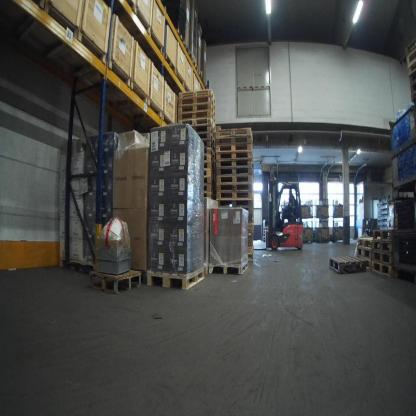forklift: (260, 170, 307, 256)
pallet: (91, 261, 145, 297), (148, 266, 205, 290), (330, 254, 365, 277), (58, 255, 92, 278), (208, 259, 249, 278), (175, 97, 216, 110), (179, 111, 215, 125), (179, 92, 217, 105), (181, 117, 216, 131), (177, 105, 215, 117), (217, 190, 253, 202), (216, 182, 254, 193), (215, 128, 252, 139), (215, 167, 254, 177), (371, 262, 395, 278), (374, 228, 400, 242), (215, 143, 254, 152), (216, 160, 255, 169), (402, 32, 416, 57), (216, 151, 254, 160), (370, 250, 394, 264), (217, 136, 253, 145), (370, 240, 399, 251), (216, 175, 254, 183), (222, 199, 254, 208), (357, 234, 375, 249), (195, 132, 215, 144), (194, 127, 215, 138), (360, 257, 372, 276), (174, 28, 185, 48), (200, 140, 215, 153), (357, 248, 372, 260), (203, 160, 216, 172), (203, 148, 215, 160), (408, 46, 415, 66), (184, 44, 192, 60), (204, 167, 215, 178), (190, 57, 198, 72), (407, 61, 415, 76), (203, 186, 216, 194), (204, 193, 213, 204), (204, 179, 216, 186), (410, 79, 416, 93), (410, 70, 415, 85), (198, 72, 204, 84), (411, 92, 416, 106), (263, 239, 268, 244), (263, 230, 269, 234), (262, 227, 269, 230), (262, 234, 266, 237), (263, 237, 267, 239)
stillage: (386, 103, 415, 189), (390, 196, 415, 284), (313, 194, 331, 220), (314, 219, 331, 244), (300, 219, 313, 249), (330, 198, 345, 221), (331, 220, 346, 243), (298, 200, 313, 219)
